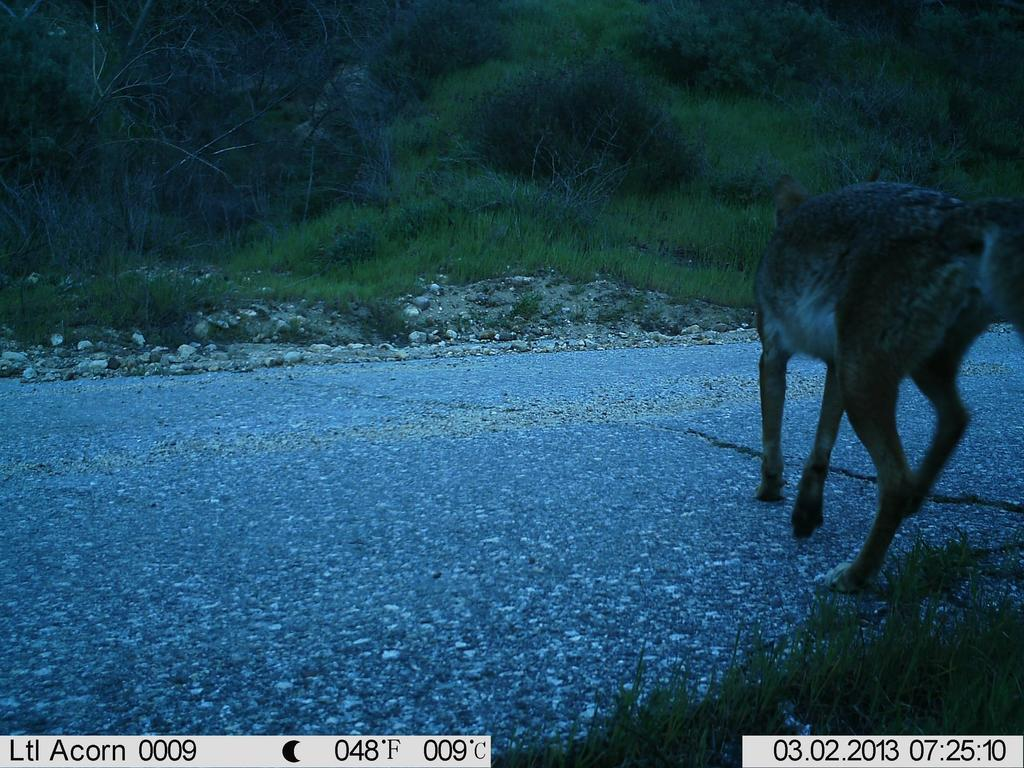coyote: (725, 154, 1017, 616)
